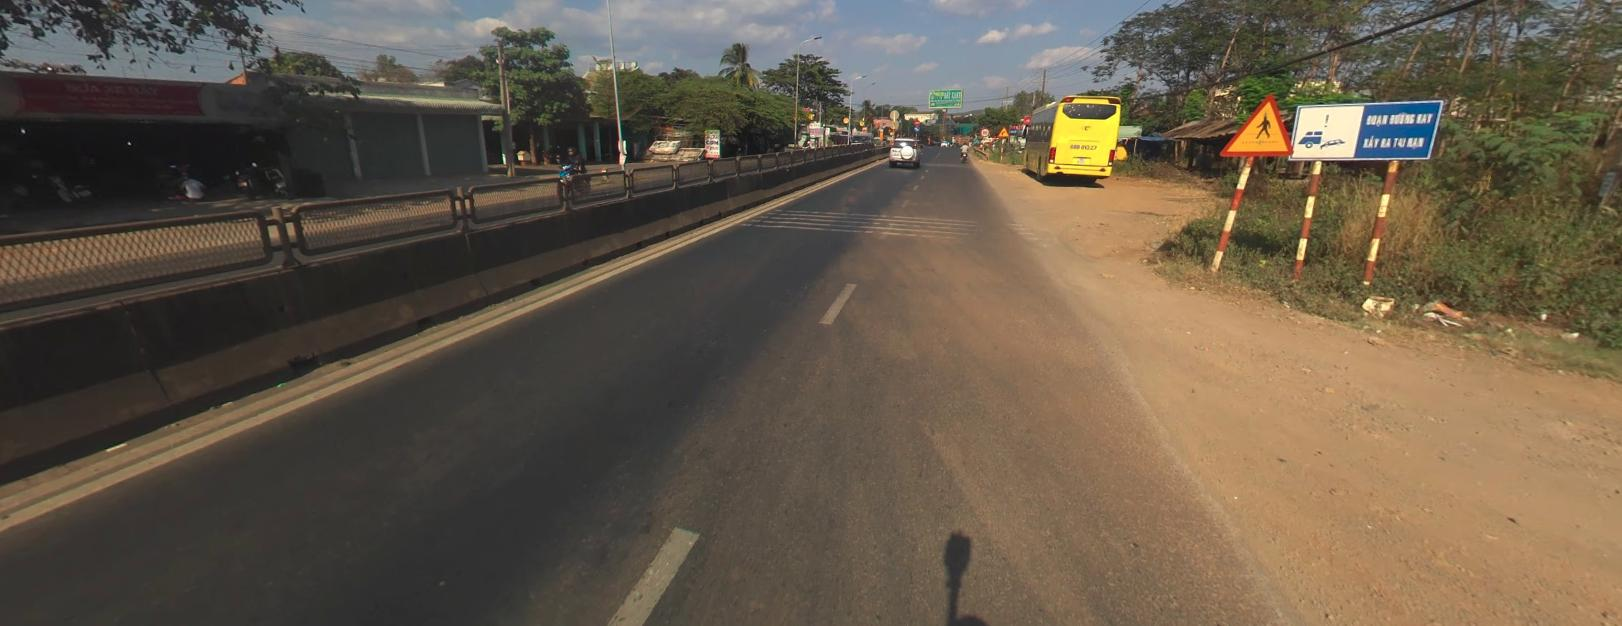Cam nguoc chieu: (913, 119, 918, 124)
Gioi han toc do: (980, 126, 989, 135)
Hieu lenh: (913, 124, 919, 130)
Nguy hiem: (1218, 92, 1294, 156), (997, 125, 1010, 135)
